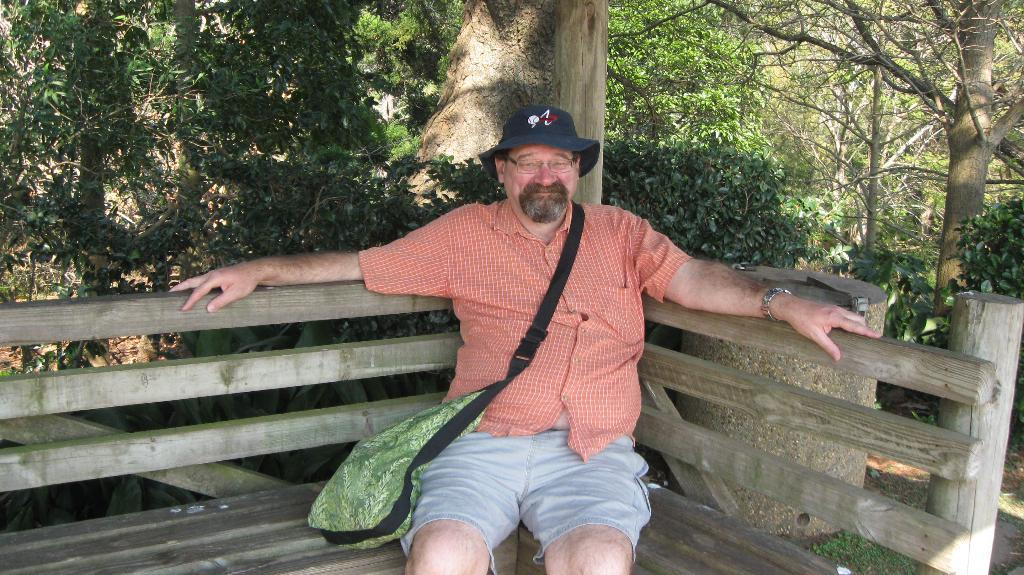Hat: (477, 107, 602, 179)
